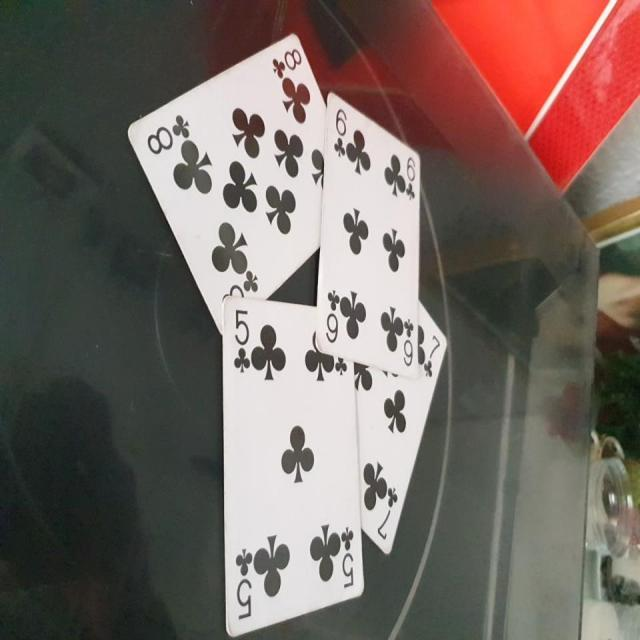5 Trefoils: (222, 295, 367, 638)
6 Trefoils: (313, 90, 421, 373)
7 Trefoils: (355, 298, 447, 557)
8 Trefoils: (124, 32, 327, 340)
